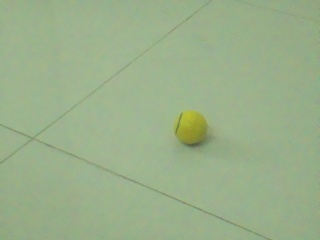ball: (174, 111, 207, 144)
